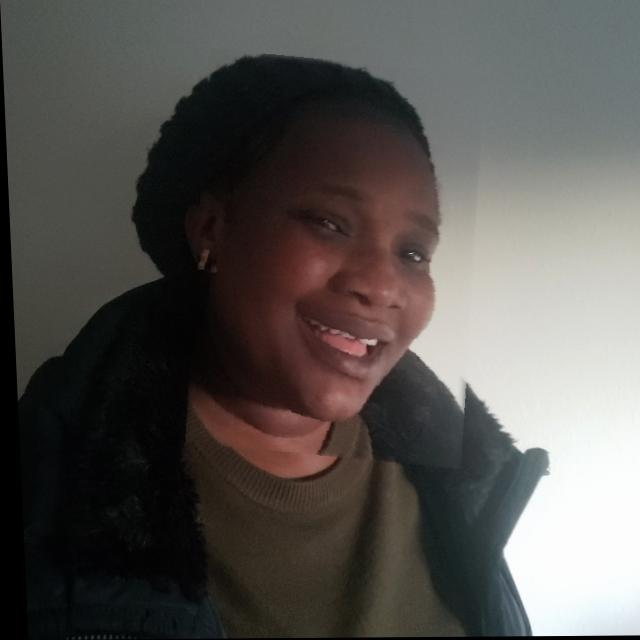happy: (178, 54, 488, 464)
